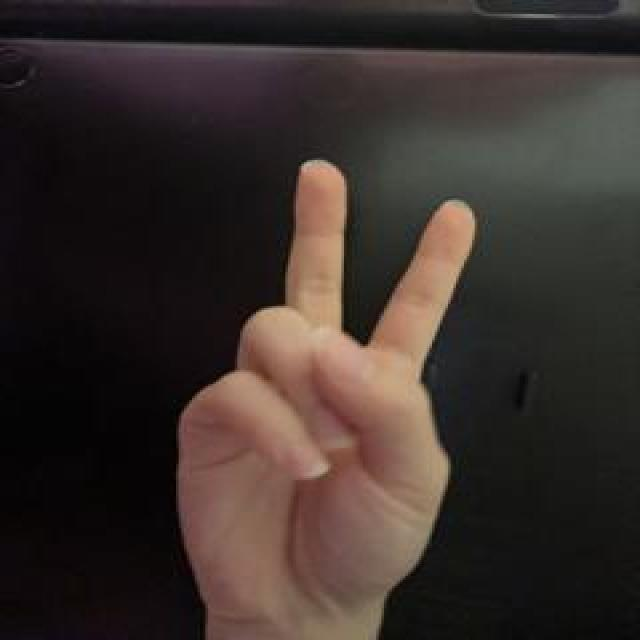V: (168, 154, 483, 628)
